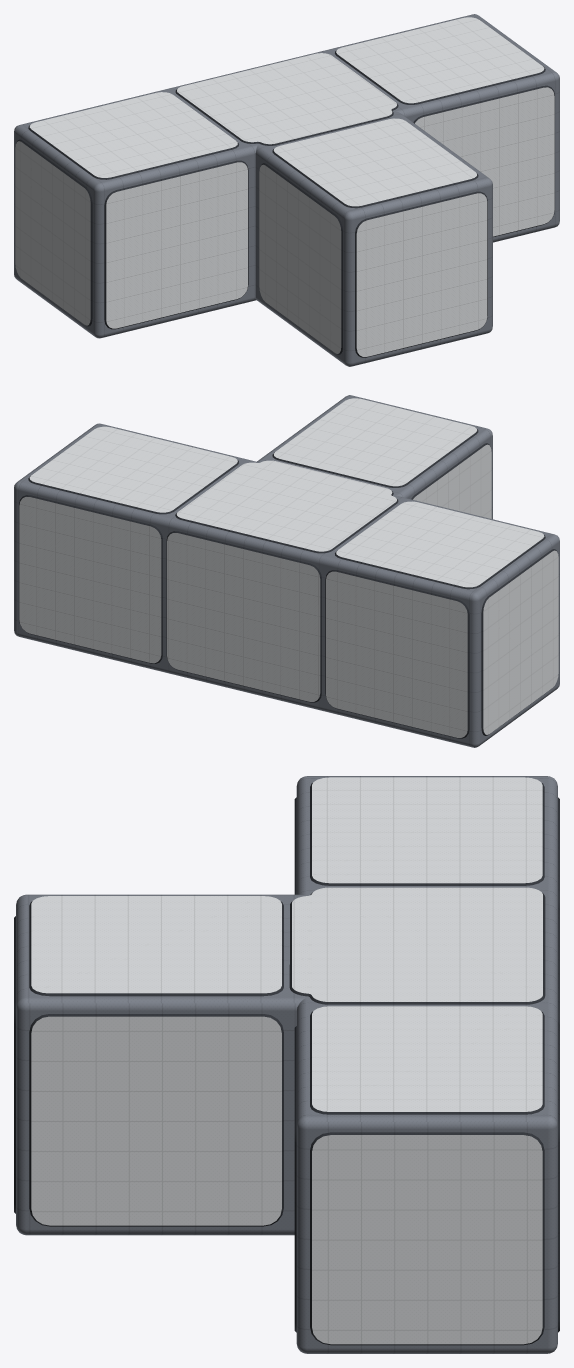
Rendered from R4B_Tee4.glb.
3 renders of one model, top to bottom at view 1: azimuth 30°, elevation 25°; view 2: azimuth 150°, elevation 25°; view 3: azimuth 270°, elevation 25°, orthographic. The views are drawn at different scales.
Parts seen in each view (by area): view 1: R4B_Tee4; view 2: R4B_Tee4; view 3: R4B_Tee4.
Boxes of the visible parts, left/top/right/bottom form: R4B_Tee4: left=14, top=14, right=559, bottom=366; R4B_Tee4: left=14, top=395, right=559, bottom=747; R4B_Tee4: left=14, top=776, right=559, bottom=1353.
Bounding box in the file's own units: 1.62 × 0.52 × 1.07.
3 materials, 3 textured.
